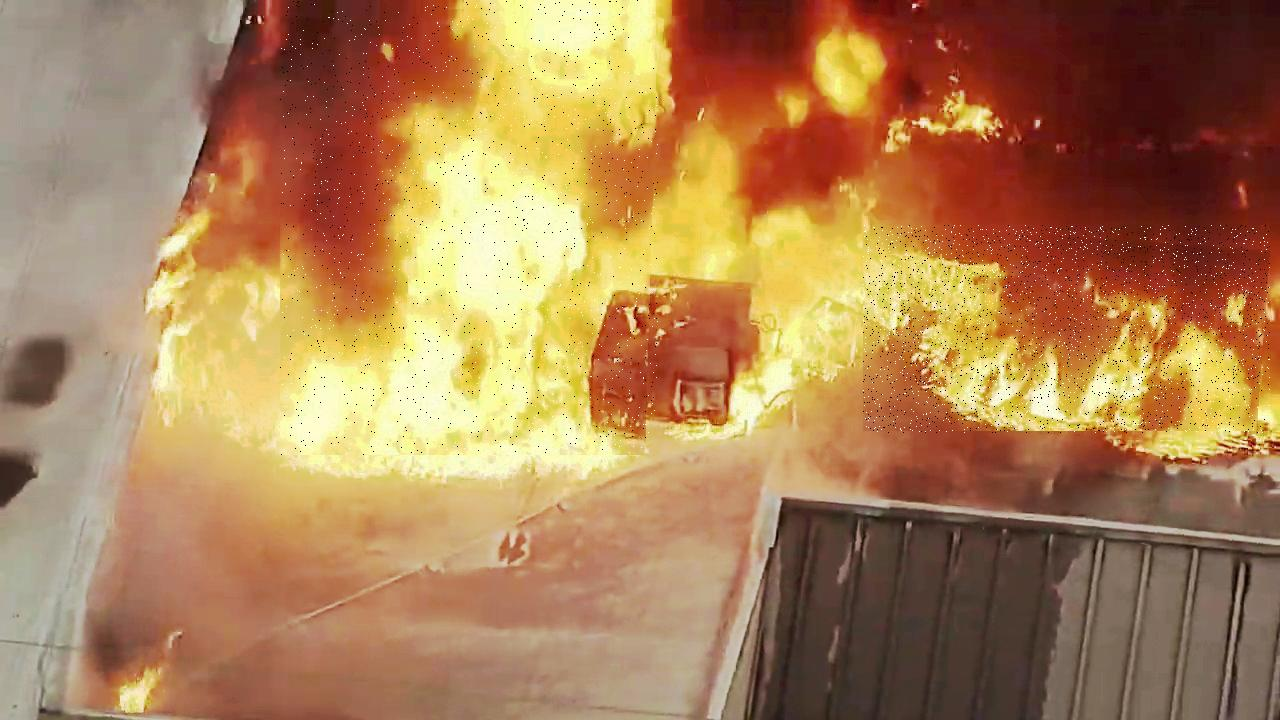fire: (280, 0, 658, 455), (863, 226, 1270, 434)
